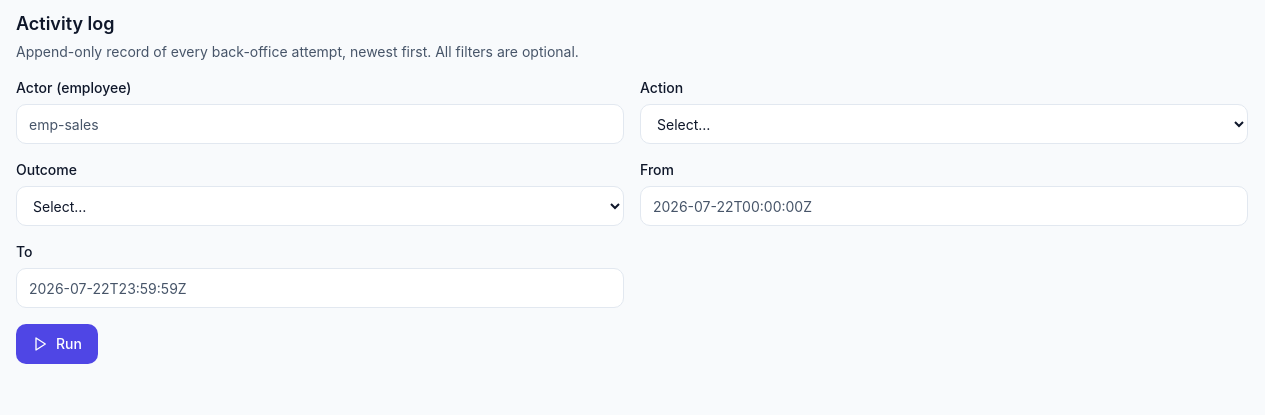
Test case: Workflow manifest — US1 activity log › activity: an empty result is an empty state, not an error
Click the button "Run" at [57, 344], box [16,324,98,364]
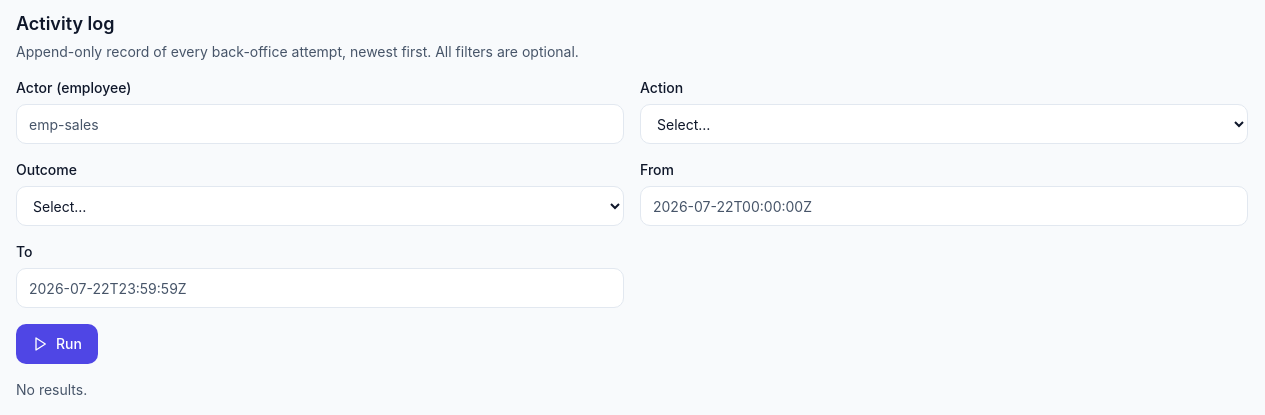
Check: the text "No results." is shown, box [16,381,87,398]
